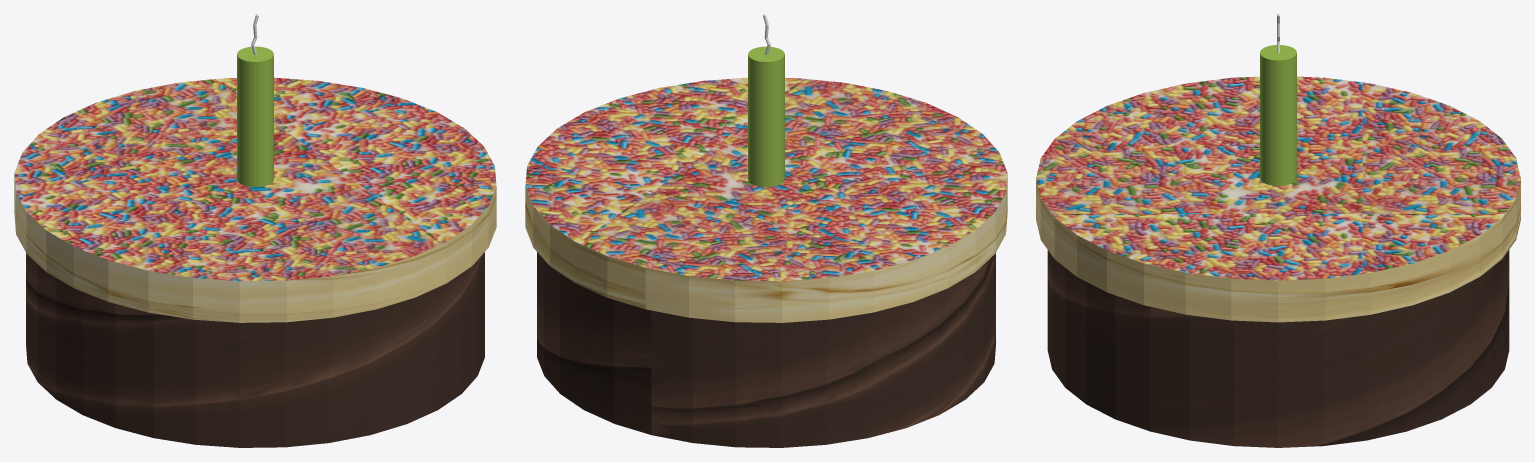
File: kue_pito.glb
The picture shows the model from 3 angles, left to right: view 1: azimuth 30°, elevation 25°; view 2: azimuth 150°, elevation 25°; view 3: azimuth 270°, elevation 25°; orthographic projection.
Visible parts, largest first — view 1: Frosting, Cake_Base, Candle; view 2: Frosting, Cake_Base, Candle; view 3: Frosting, Cake_Base, Candle.
Part boxes in pixels (left/top/right/bottom): Frosting: left=14, top=77, right=496, bottom=322; Cake_Base: left=26, top=252, right=484, bottom=447; Candle: left=237, top=14, right=273, bottom=186; Frosting: left=525, top=77, right=1007, bottom=322; Cake_Base: left=537, top=252, right=995, bottom=447; Candle: left=748, top=14, right=784, bottom=186; Frosting: left=1036, top=76, right=1520, bottom=322; Cake_Base: left=1047, top=250, right=1509, bottom=447; Candle: left=1260, top=14, right=1296, bottom=185.
Bounding box in the file's own units: 2.1 × 1.61 × 2.1.
5 materials, 3 textured.
